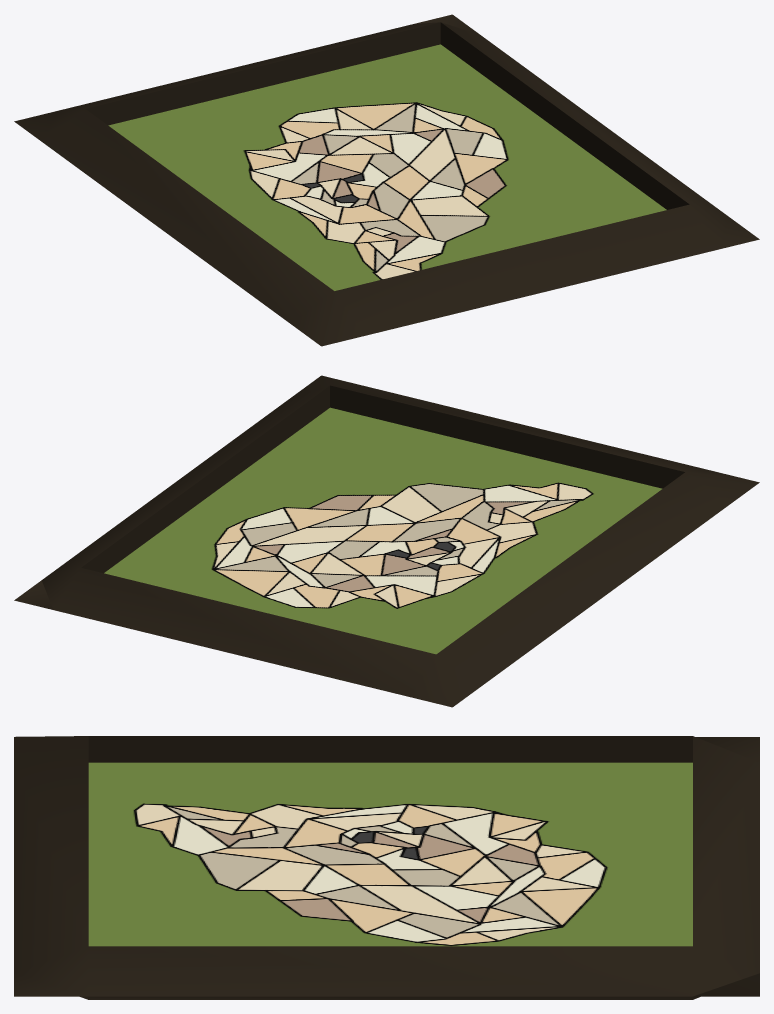
File: Painting12.fbx
3 renders of one model, top to bottom at view 1: azimuth 30°, elevation 25°; view 2: azimuth 150°, elevation 25°; view 3: azimuth 270°, elevation 25°, orthographic. The views are drawn at different scales.
Parts seen in each view (by area): view 1: pPlane1, pCube1; view 2: pPlane1, pCube1; view 3: pPlane1, pCube1.
Part boxes in pixels (<box>): pPlane1: <box>108,44,666,290</box>; pCube1: <box>14,14,759,346</box>; pPlane1: <box>104,407,662,654</box>; pCube1: <box>14,375,759,707</box>; pPlane1: <box>88,762,692,946</box>; pCube1: <box>14,736,759,999</box>.
Bounding box in the file's own units: 4.48 × 0.4312 × 5.43.
2 materials, 1 textured.
